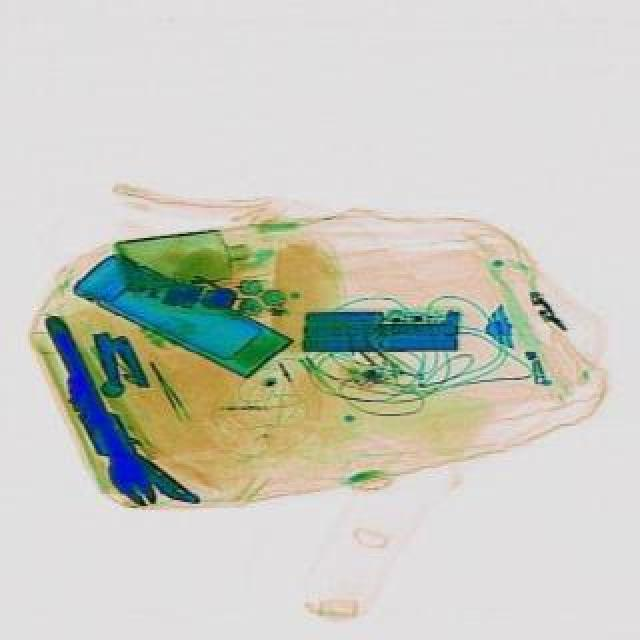scissors: (28, 310, 160, 514)
